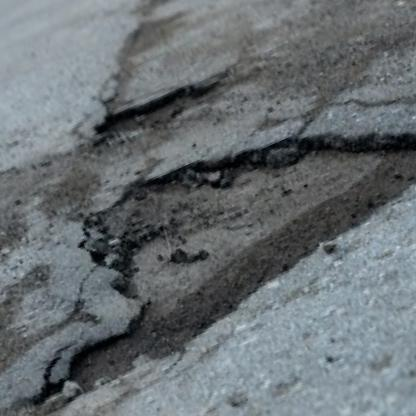pothole: (60, 75, 416, 360), (88, 65, 231, 157)
